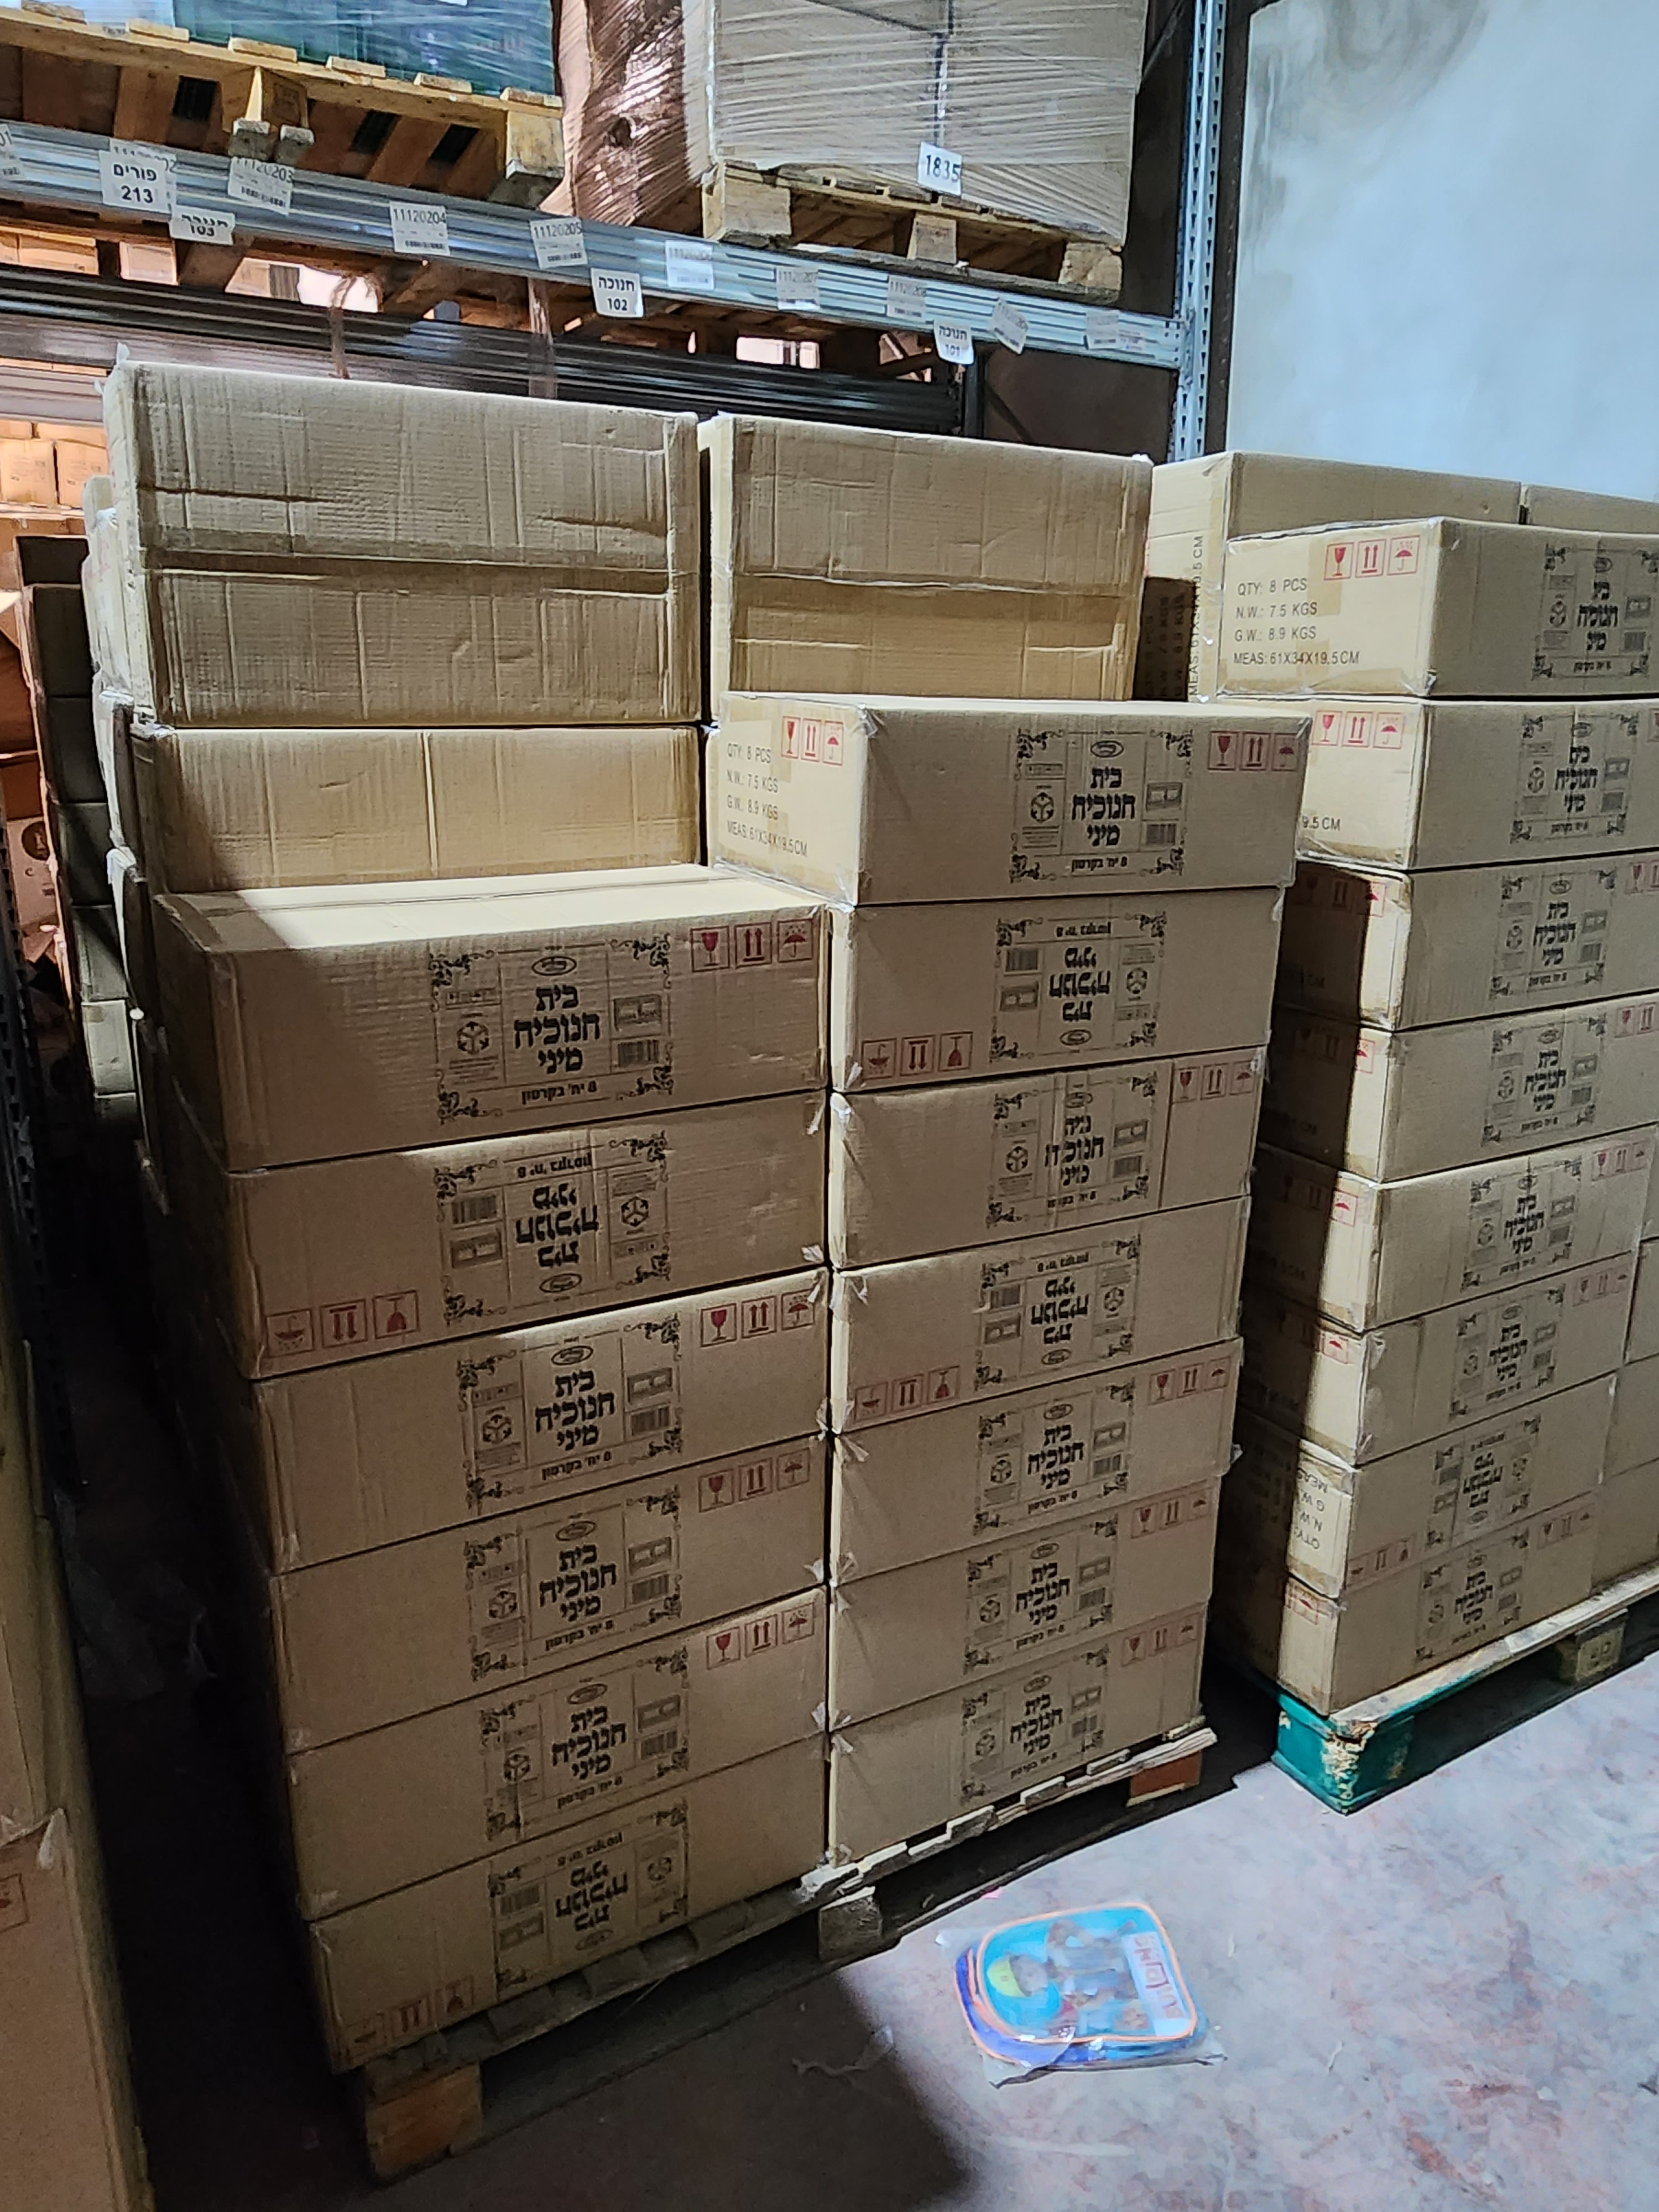box: (1398, 514, 1605, 1649), (132, 874, 861, 1162), (87, 345, 714, 618), (685, 676, 1338, 914), (164, 1125, 857, 1346), (178, 1331, 836, 1503), (835, 881, 1331, 1109), (197, 1512, 857, 1672), (701, 402, 1182, 615), (235, 1691, 884, 1838), (821, 1054, 1297, 1233), (812, 1353, 1253, 1541), (821, 1216, 1293, 1376), (821, 1512, 1277, 1665), (843, 1676, 1227, 1815)
